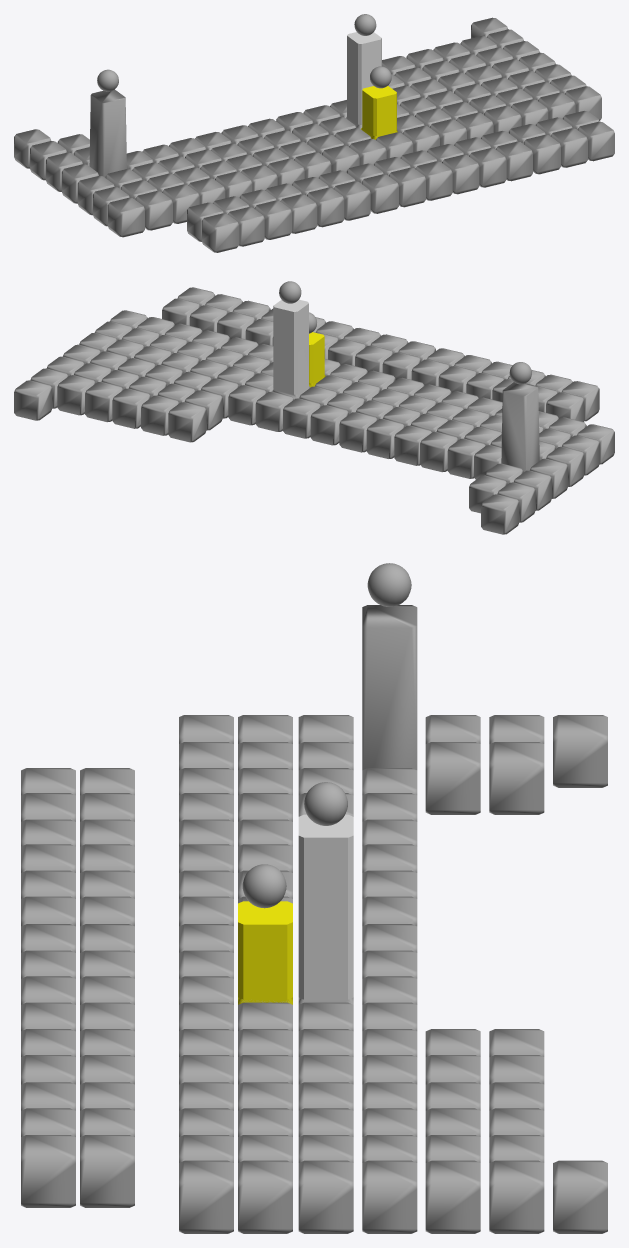
The model's file is Periodic_Table_TEMP.fbx.
The picture shows the model from 3 angles, top to bottom: view 1: azimuth 30°, elevation 25°; view 2: azimuth 150°, elevation 25°; view 3: azimuth 270°, elevation 25°; orthographic projection. The views are drawn at different scales.
Visible parts, largest first — view 1: Element_11, Element_43, Element_48, Element_209, Element_7, Element_155, Element_164, Element_14, Element_200, Element_176, Element_177, Element_169 (+104 smaller); view 2: Element_43, Element_11, Element_109, Element_5, Element_23, Element_56, Element_100, Element_74, Element_53, Element_86, Element_118, Element_39 (+92 smaller); view 3: Element_43, Element_11, Element_48, Element_103, Element_105, Element_104, Element_106, Element_10, Element_9, Element_107, Element_108, Element_109 (+99 smaller).
Boxes of the visible parts, bbox=[...] form: Element_11: bbox=[89, 89, 126, 177]; Element_43: bbox=[346, 32, 381, 128]; Element_48: bbox=[361, 86, 397, 139]; Element_209: bbox=[201, 213, 239, 252]; Element_7: bbox=[107, 197, 144, 237]; Element_155: bbox=[361, 174, 398, 213]; Element_164: bbox=[523, 134, 560, 174]; Element_14: bbox=[135, 191, 172, 230]; Element_200: bbox=[469, 148, 506, 187]; Element_176: bbox=[306, 187, 344, 227]; Element_177: bbox=[254, 200, 291, 239]; Element_169: bbox=[442, 154, 479, 194]; Element_43: bbox=[272, 299, 310, 399]; Element_11: bbox=[501, 382, 539, 472]; Element_109: bbox=[14, 380, 52, 420]; Element_5: bbox=[481, 494, 519, 534]; Element_23: bbox=[168, 402, 206, 442]; Element_56: bbox=[310, 405, 348, 445]; Element_100: bbox=[112, 388, 150, 428]; Element_74: bbox=[366, 418, 404, 458]; Element_53: bbox=[283, 398, 321, 438]; Element_86: bbox=[420, 431, 458, 472]; Element_118: bbox=[57, 375, 95, 415]; Element_39: bbox=[228, 385, 266, 425]; Element_43: bbox=[298, 814, 353, 1004]; Element_11: bbox=[362, 605, 417, 770]; Element_48: bbox=[238, 901, 292, 1004]; Element_103: bbox=[298, 1160, 353, 1233]; Element_105: bbox=[489, 1160, 544, 1233]; Element_104: bbox=[362, 1160, 417, 1233]; Element_106: bbox=[425, 1160, 480, 1233]; Element_10: bbox=[425, 742, 480, 814]; Element_9: bbox=[489, 742, 544, 814]; Element_107: bbox=[179, 1160, 233, 1233]; Element_108: bbox=[238, 1160, 292, 1233]; Element_109: bbox=[553, 1160, 607, 1233].
Bounding box in the file's own units: 50.47 × 12.78 × 26.69.
